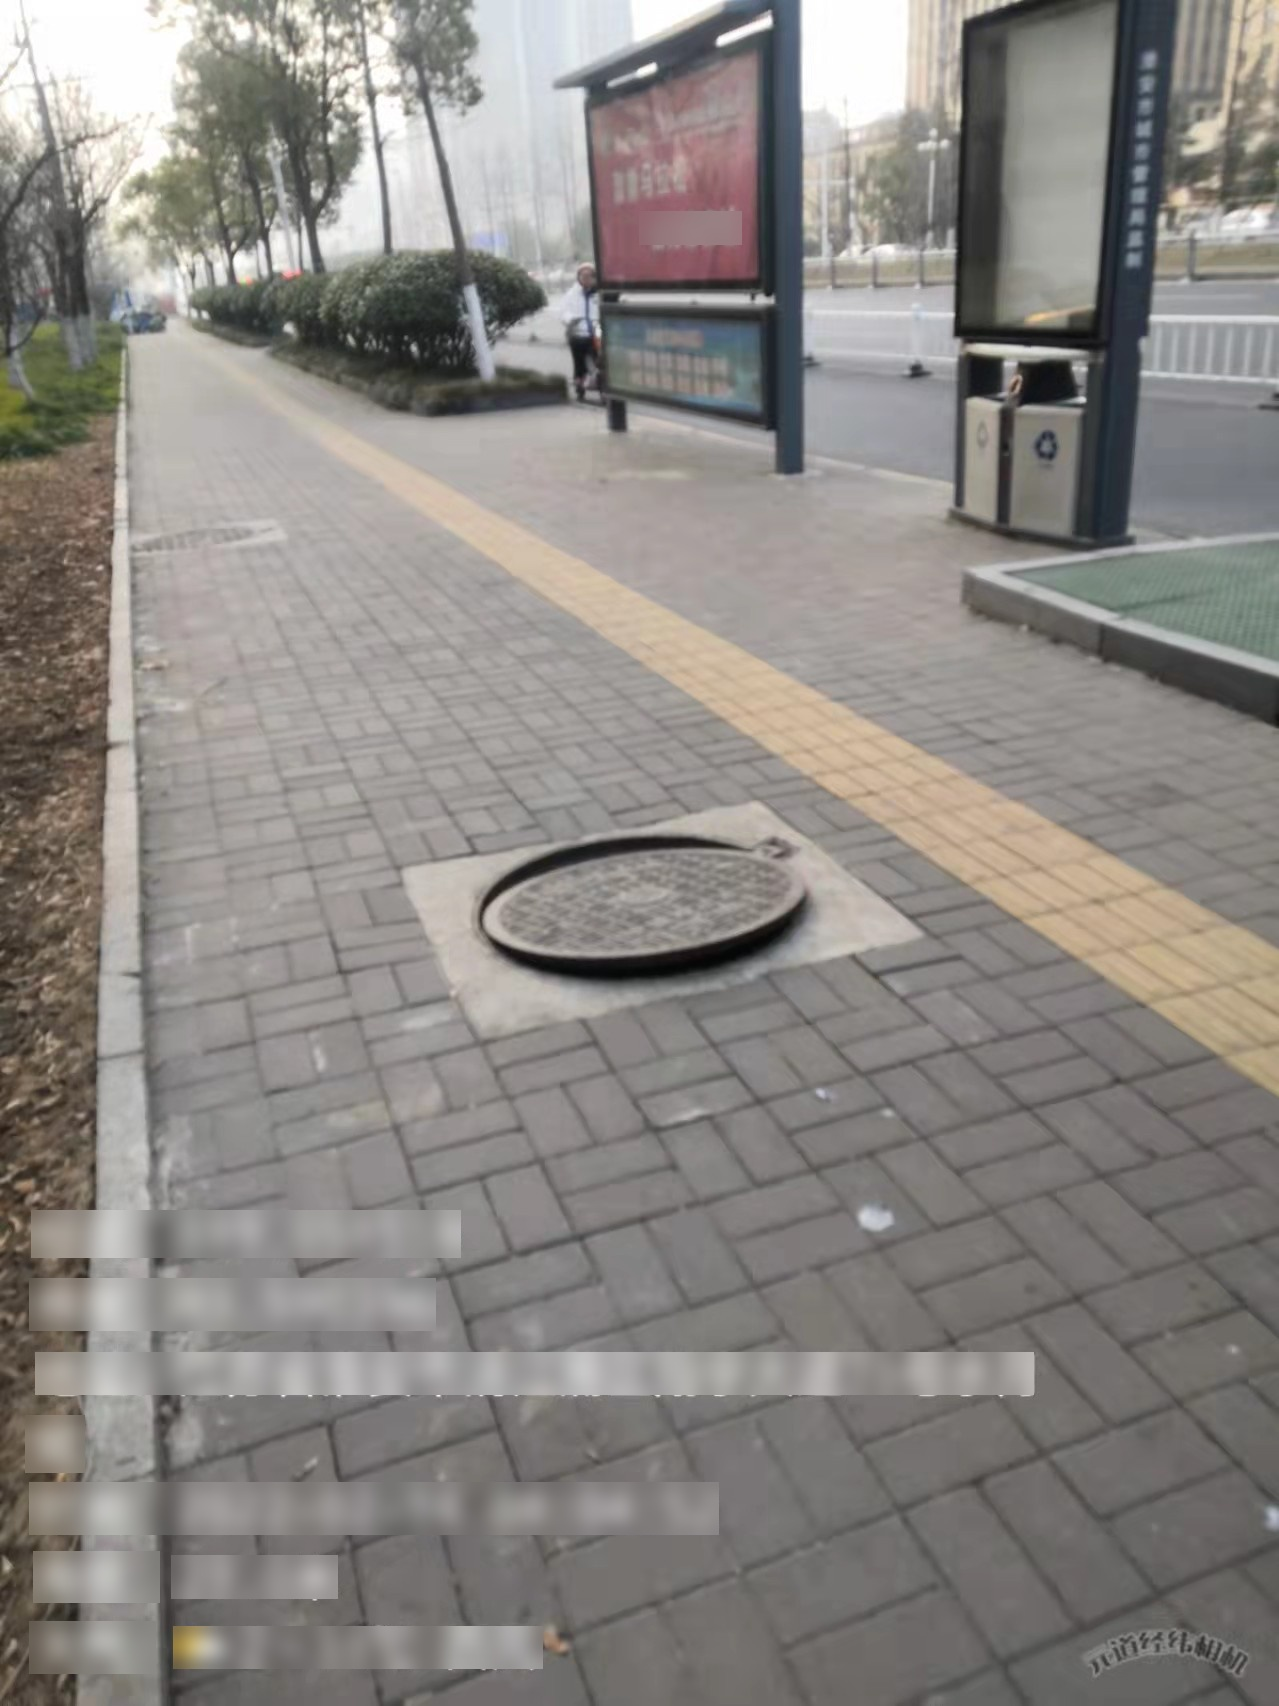uncovered: (468, 829, 817, 994)
